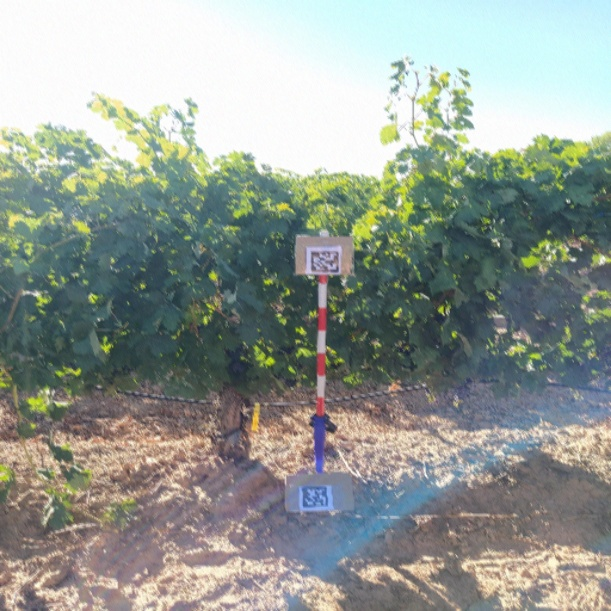QR: (311, 251, 340, 273), (301, 487, 331, 508)
